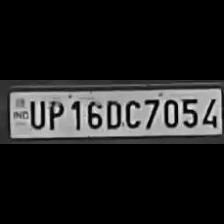0: (160, 96, 178, 128)
1: (66, 97, 82, 130)
4: (200, 94, 218, 128)
5: (180, 94, 198, 128)
6: (84, 96, 103, 130)
7: (141, 96, 159, 128)
C: (123, 96, 141, 128)
D: (102, 97, 122, 129)
P: (44, 97, 64, 130)
U: (26, 96, 44, 130)
